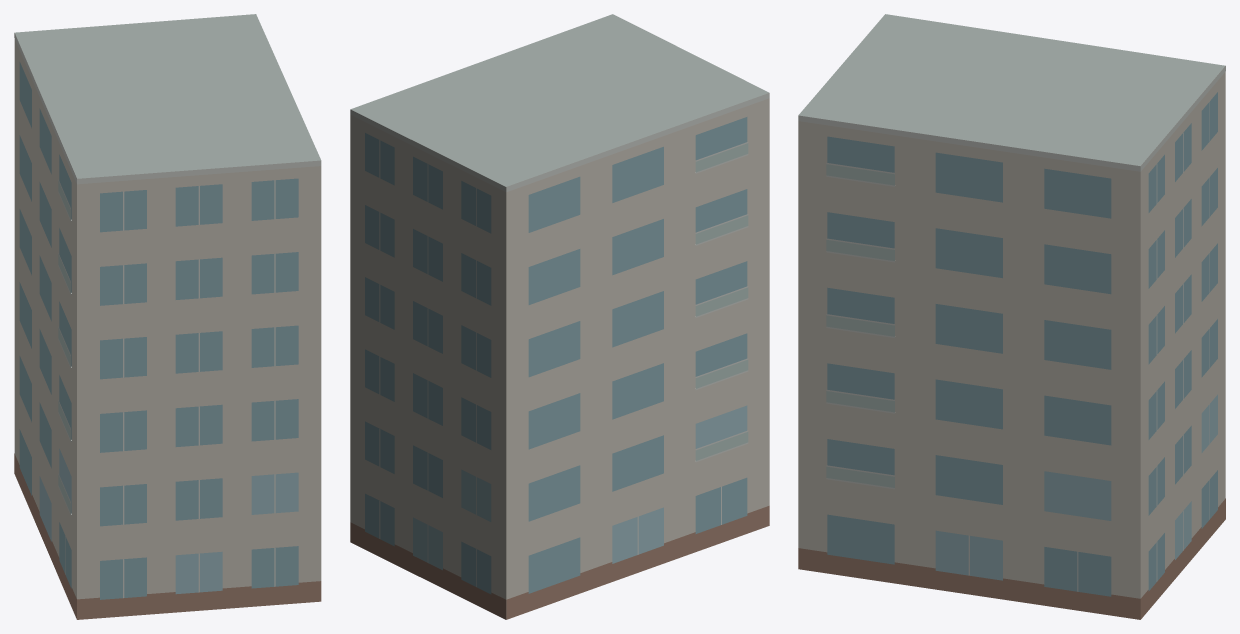
File: survey-upis-32886678.glb
3 renders of one model, left to right at view 1: azimuth 30°, elevation 25°; view 2: azimuth 150°, elevation 25°; view 3: azimuth 270°, elevation 25°, orthographic. The views are drawn at different scales.
Parts seen in each view (by area): view 1: survey-upis-32886678.tmp; view 2: survey-upis-32886678.tmp; view 3: survey-upis-32886678.tmp.
Part boxes in pixels (box(x1,y1,x2,y2)): survey-upis-32886678.tmp: box(14, 14, 321, 619); survey-upis-32886678.tmp: box(350, 14, 769, 619); survey-upis-32886678.tmp: box(798, 14, 1225, 619).
Size of the model in its own units: 14.11 by 19.6 by 16.75.
